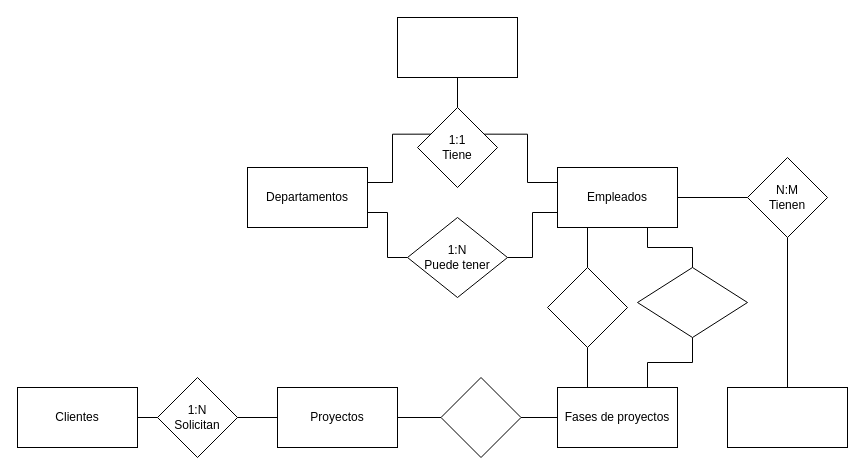
Image size: 865x475. Some labels were removed from this diagram. Here are the shapes that lost their labels. From the top down, the centre of each, then its label:
At pixel 457 47: "Jefe de departamento".
At pixel 587 307: "1:1 Trabajan".
At pixel 692 302: "1:N Han trabajado".
At pixel 480 417: "1:N Tiene".
At pixel 787 417: "Certificados".
